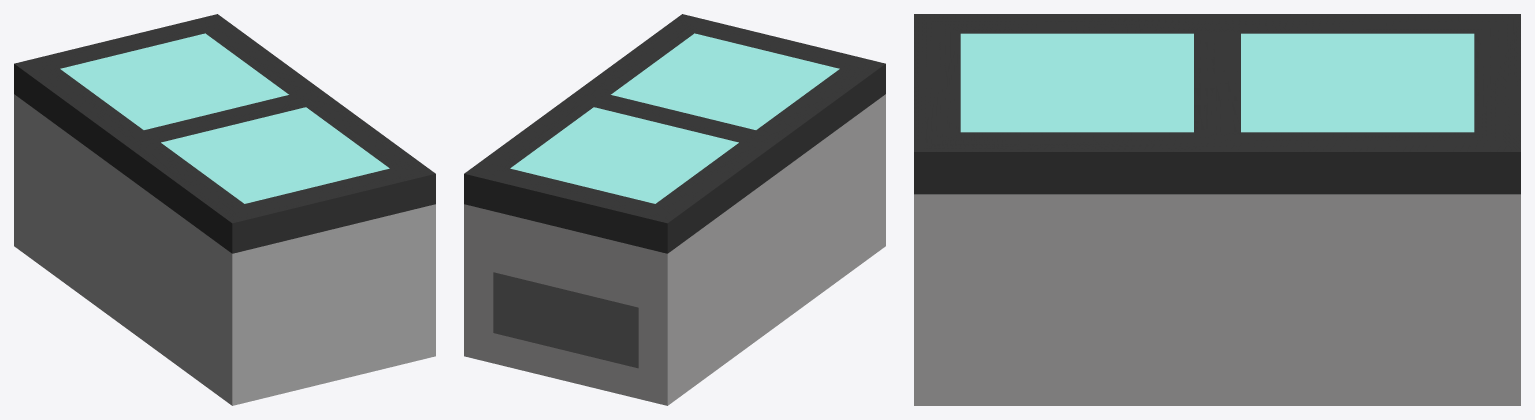
File: freezer.obj
3 views of the same model, side by side, from view 1: azimuth 30°, elevation 25°; view 2: azimuth 150°, elevation 25°; view 3: azimuth 270°, elevation 25° (orthographic). The views are drawn at different scales.
Bounding box in the file's own units: 0.7 × 0.6 × 1.3.
Materials: 1 (1 with a texture image).
